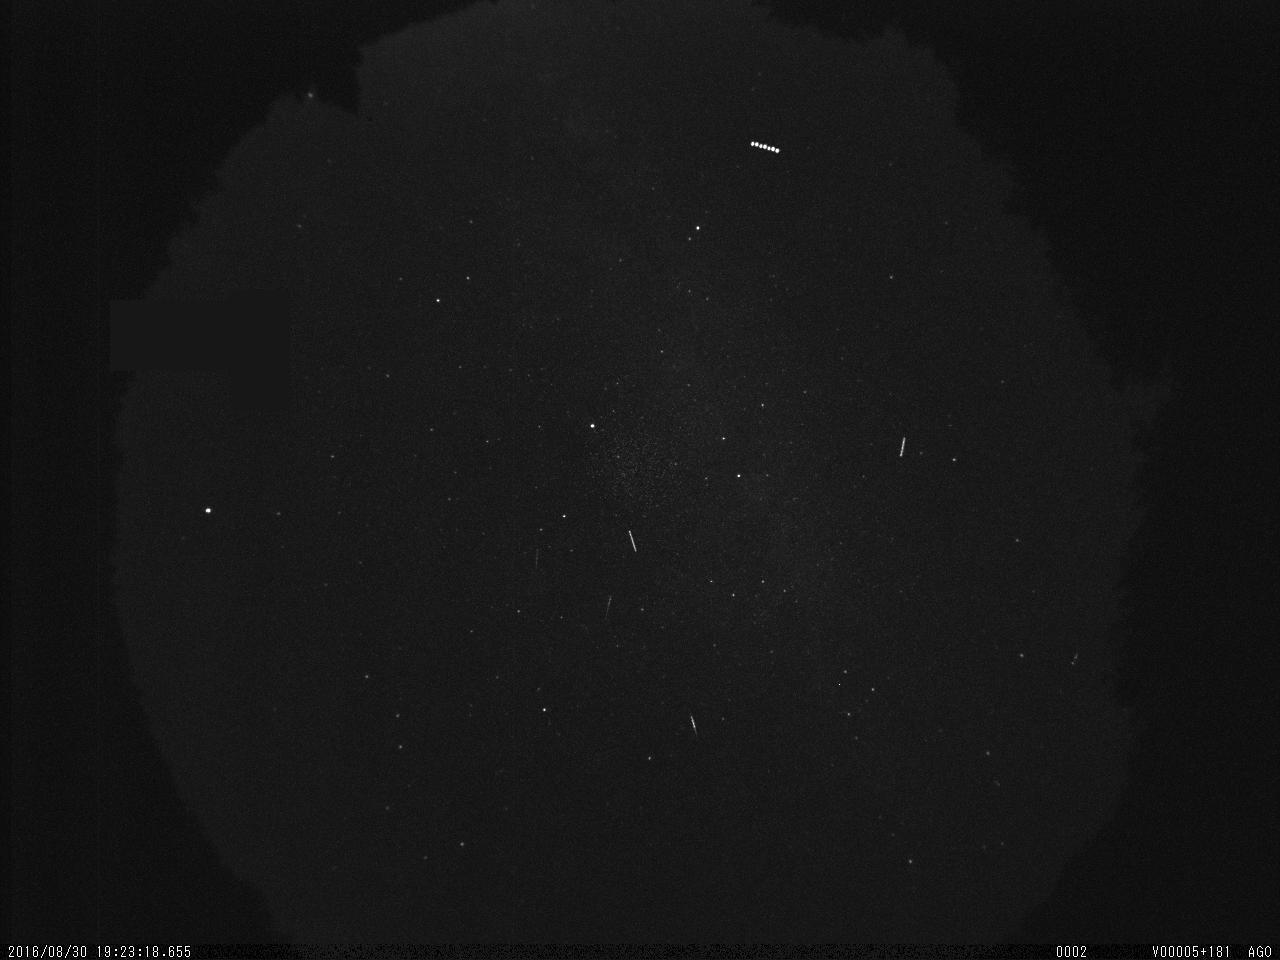meteor: (682, 707, 704, 745)
satelite: (742, 133, 790, 159), (620, 525, 647, 562), (894, 432, 914, 466)
